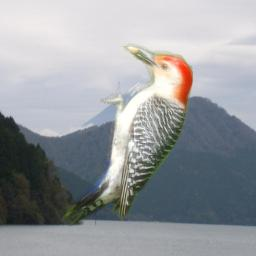Woodpecker: (57, 38, 193, 234)
